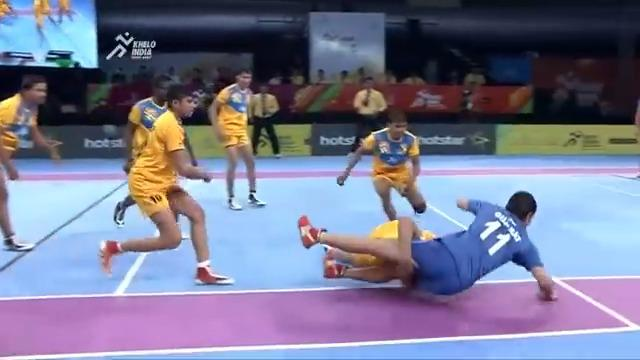Player: (96, 80, 236, 288), (1, 176, 128, 274), (0, 72, 63, 252), (335, 106, 430, 220)
Raider: (294, 188, 560, 307)
referee: (247, 83, 282, 158)
